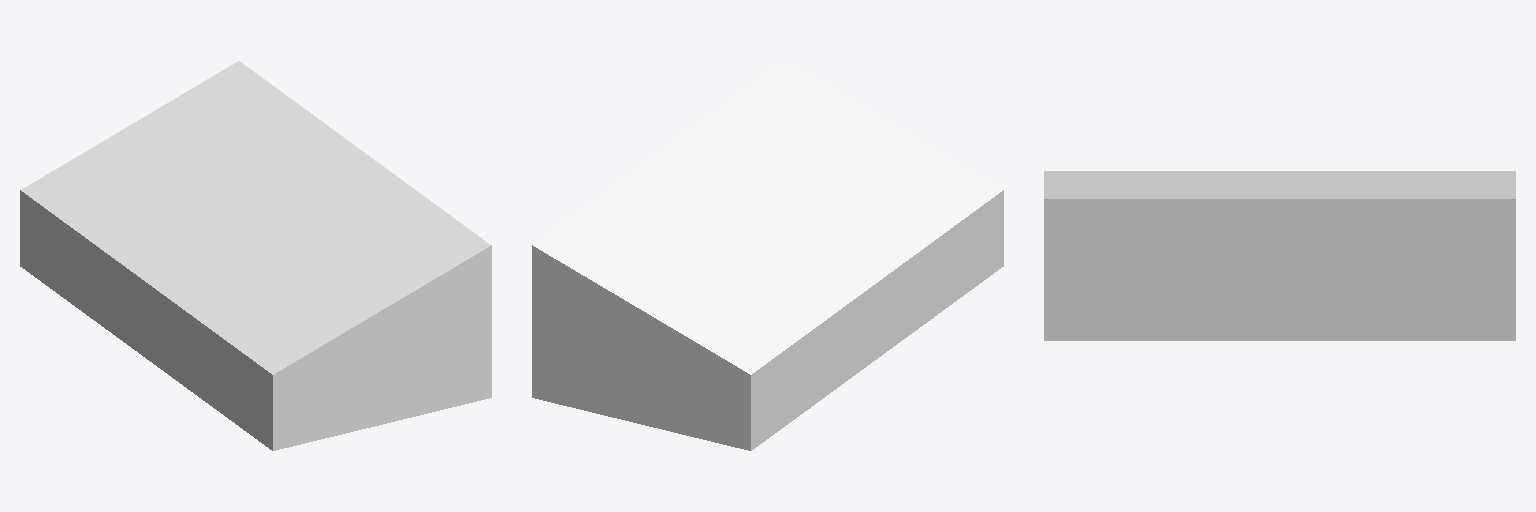
URDF robot description (terrain-ramps_1):
<?xml version="1.0" encoding="utf-8"?>
<!-- This URDF was automatically created by SolidWorks to URDF Exporter! Originally created by [author] ([email redacted]) 
     Commit Version: 1.6.0-4-g7f85cfe  Build Version: 1.6.7995.38578
     For more information, please see http://wiki.ros.org/sw_urdf_exporter -->
<robot
  name="terrain-ramps_1">
  <link
    name="base_link">
    <inertial>
      <origin
        xyz="-0.26667 4.2633E-14 0.15556"
        rpy="0 0 0" />
      <mass
        value="216" />
      <inertia
        ixx="8.4533"
        ixy="-1.2975E-16"
        ixz="-1.04"
        iyy="8.2133"
        iyz="-1.6958E-16"
        izz="12.72" />
    </inertial>
    <visual>
      <origin
        xyz="0 0 0"
        rpy="0 0 0" />
      <geometry>
        <mesh
          filename="package://terrain-ramps_1/meshes/base_link.STL" />
      </geometry>
      <material
        name="">
        <color
          rgba="1 1 1 1" />
      </material>
    </visual>
    <collision>
      <origin
        xyz="0 0 0"
        rpy="0 0 0" />
      <geometry>
        <mesh
          filename="package://terrain-ramps_1/meshes/base_link.STL" />
      </geometry>
    </collision>
  </link>
</robot>

--- Facts derived from the render (not from the file) ---
The picture shows the robot from 3 angles, left to right: view 1: azimuth 30°, elevation 25°; view 2: azimuth 150°, elevation 25°; view 3: azimuth 270°, elevation 25°; orthographic projection.
Model terrain-ramps_1 with 1 links and 0 joints (none), rooted at base_link, posed all joints at 0.
Links seen in each view (by area): view 1: base_link; view 2: base_link; view 3: base_link.
Link boxes in pixels (<box>): base_link: <box>20,61,491,450</box>; base_link: <box>532,61,1003,450</box>; base_link: <box>1044,171,1515,340</box>.
Size in the robot's own frame: 0.6 by 1.2 by 0.4 metres.
Meshes: 1 distinct files referenced, 1 mesh visuals loaded (1 binary STL).